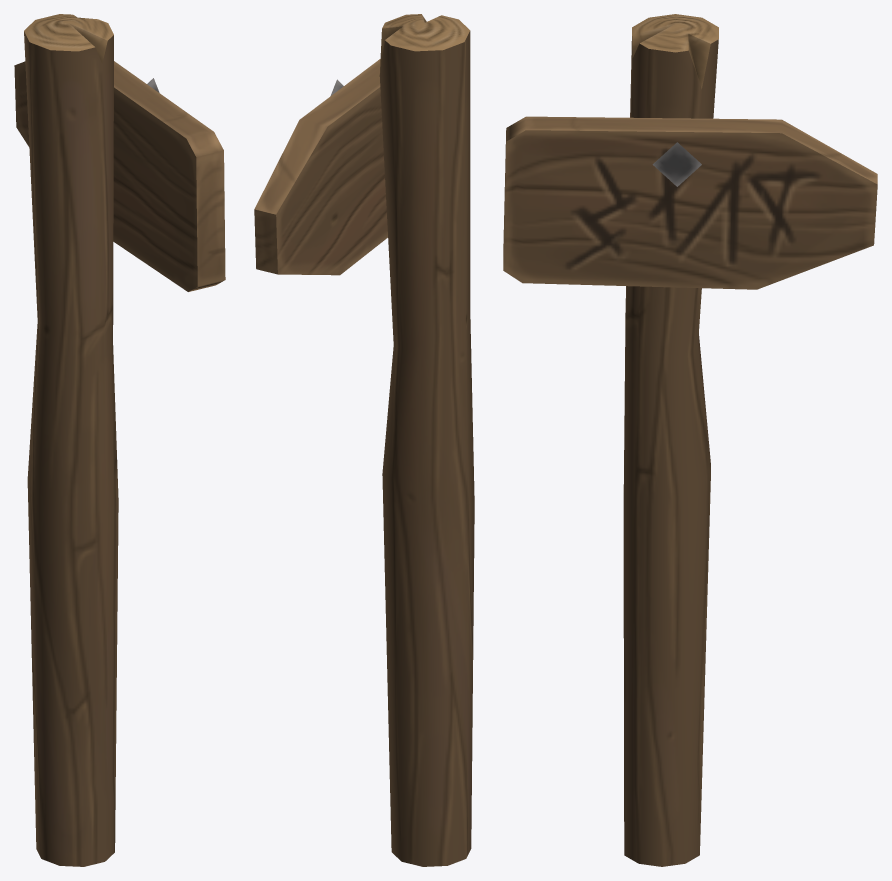
File: Sign1.fbx
3 renders of one model, left to right at view 1: azimuth 30°, elevation 25°; view 2: azimuth 150°, elevation 25°; view 3: azimuth 270°, elevation 25°, orthographic.
Visible parts, largest first — view 1: polySurface2060; view 2: polySurface2060; view 3: polySurface2060.
Boxes of the visible parts, left/top/right/bottom form: polySurface2060: left=14, top=14, right=225, bottom=866; polySurface2060: left=254, top=14, right=474, bottom=866; polySurface2060: left=503, top=14, right=877, bottom=866.
Size of the model in its own units: 18.11 by 114 by 46.74.
Materials: 1 (1 with a texture image).
